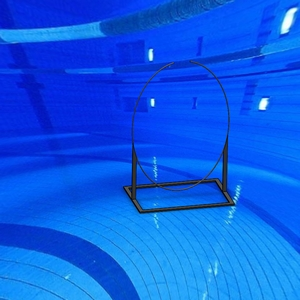circle: (122, 59, 237, 214)
